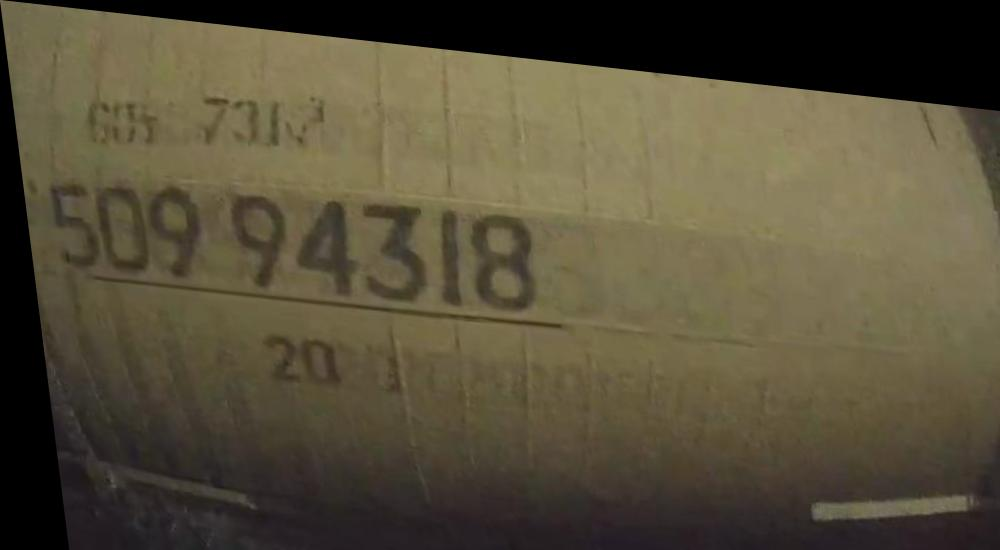Wagon-number: (38, 153, 552, 317)
